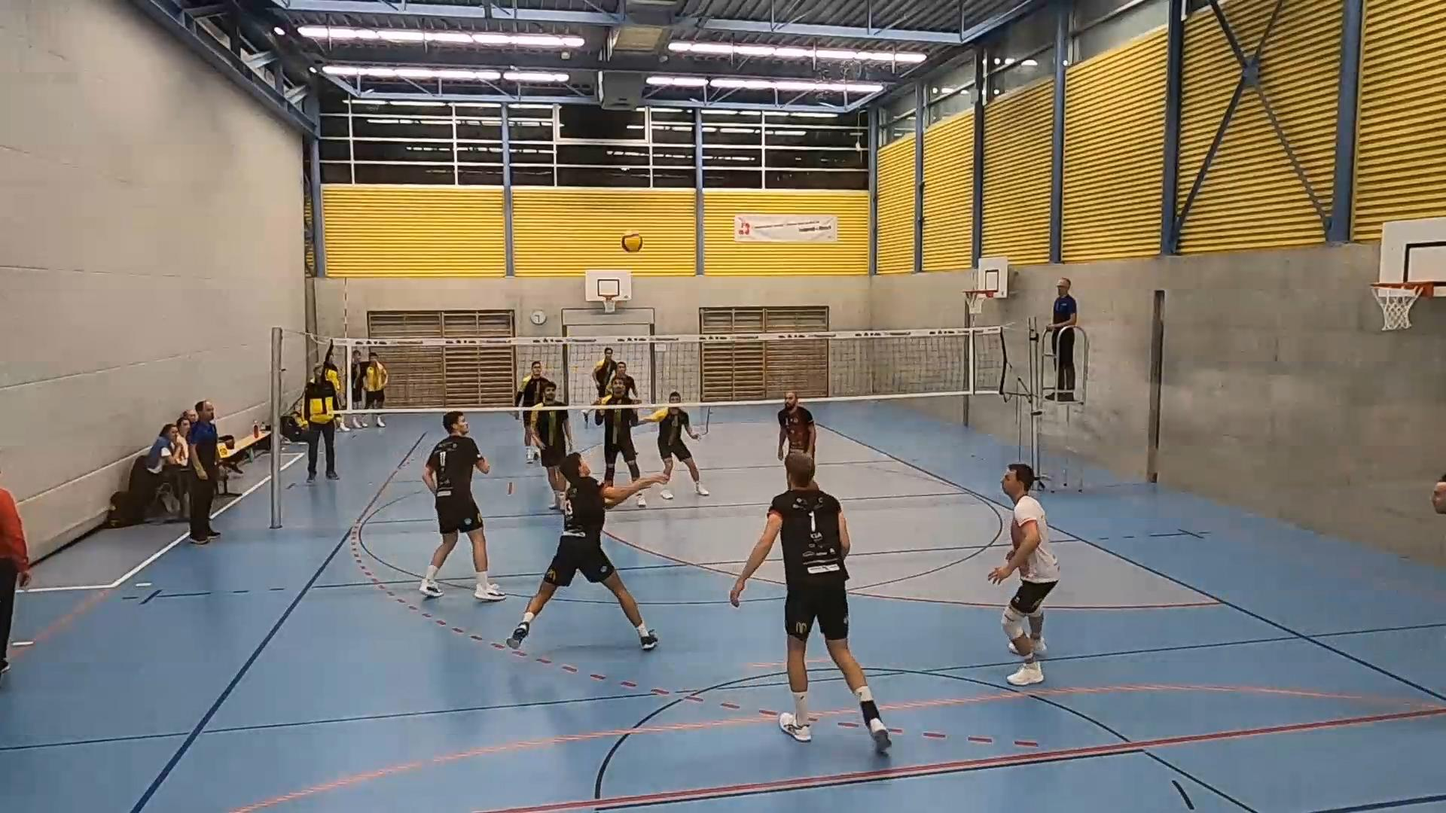Player: (730, 452, 890, 753), (419, 411, 505, 601), (988, 464, 1059, 685), (643, 406, 709, 499), (524, 382, 572, 509), (595, 377, 640, 485), (514, 361, 550, 463), (777, 391, 816, 460), (606, 362, 639, 398), (593, 349, 617, 397)
Receive: (505, 469, 667, 661)
ball: (622, 232, 646, 250), (648, 408, 673, 422)
